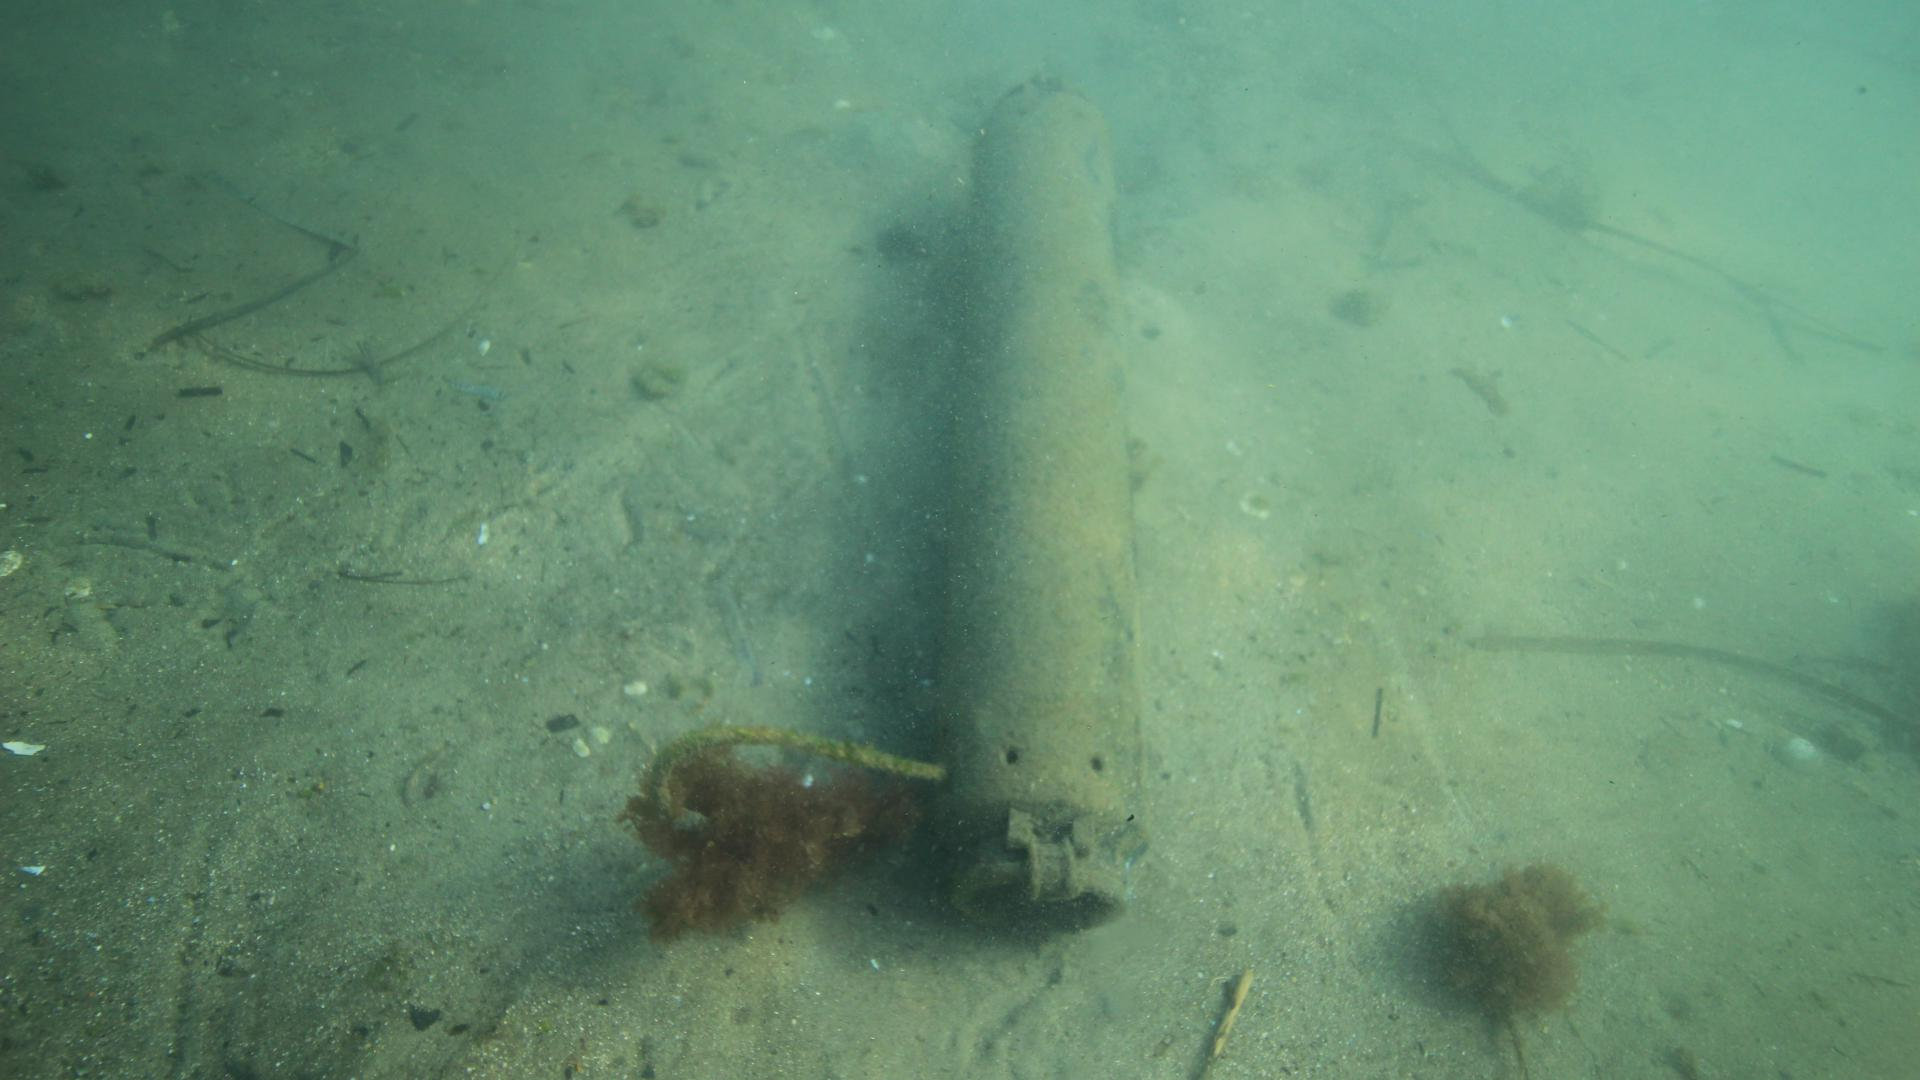eel fish trap: (924, 69, 1156, 942)
rope: (607, 725, 947, 815)
